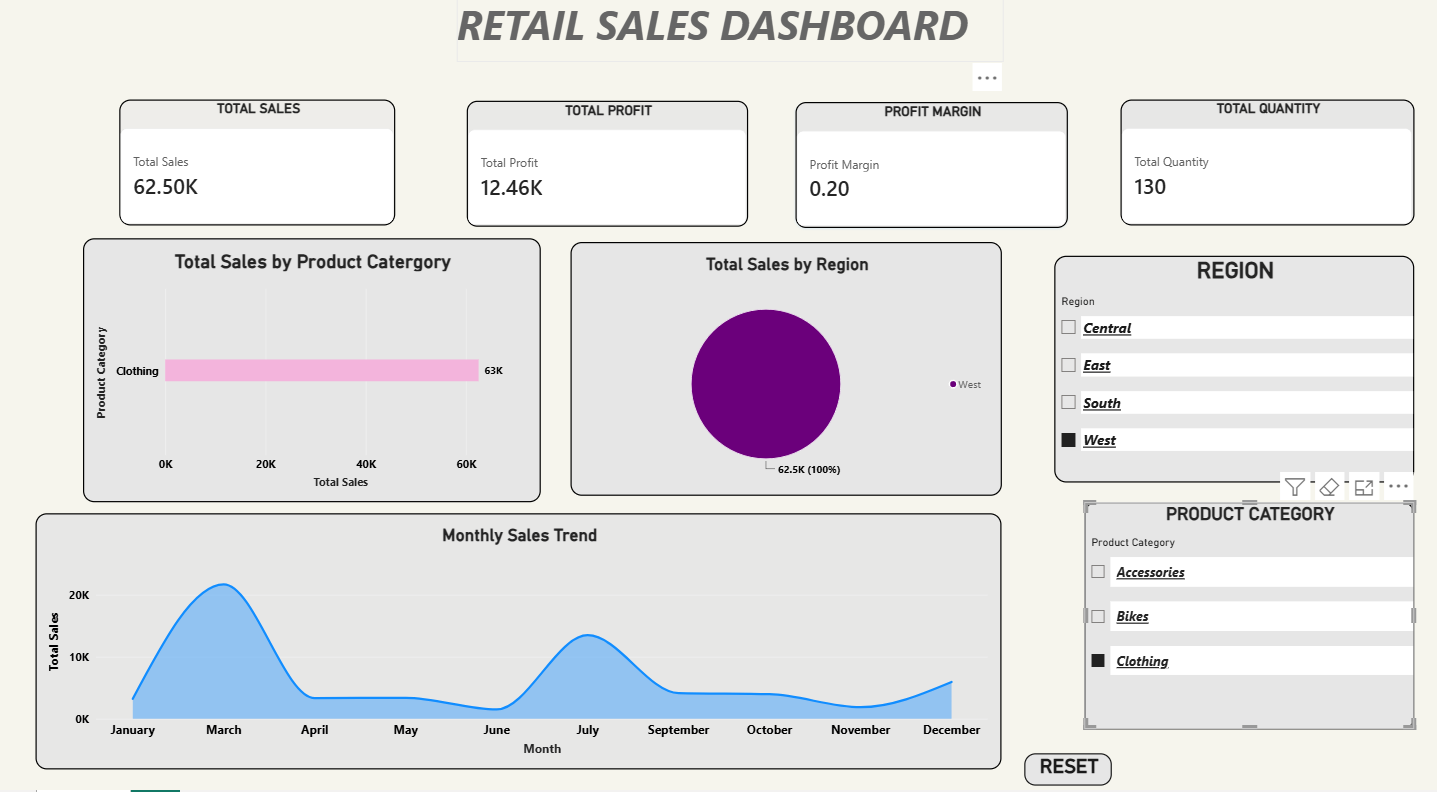

This screenshot's page, from the dashboard's own definition file:
{"tool":"powerbi","page":{"name":"Page 1","canvas":[1920,1080],"ordinal":0},"visuals":[{"type":"textbox","box":[612.2,0,727.3,87.2],"z":0},{"type":"cardVisual","title":"TOTAL SALES","fields":{"Data":["Sheet1.Total Sales"]},"box":[161.7,136.7,368.3,168.3],"z":1},{"type":"cardVisual","title":"TOTAL PROFIT","fields":{"Data":["Sheet1.Total Profit"]},"box":[625,138.3,375,168.3],"z":2},{"type":"cardVisual","title":"PROFIT MARGIN","fields":{"Data":["Sheet1.Profit Margin"]},"box":[1063.3,140,363.3,168.3],"z":3},{"type":"cardVisual","title":"TOTAL QUANTITY","fields":{"Data":["Sheet1.Total Quantity"]},"box":[1496.7,136.7,391.7,168.3],"z":4},{"type":"clusteredBarChart","title":"Total Sales by Product Catergory","fields":{"Category":["Sheet1.Product Category"],"Y":["Sheet1.Total Sales"]},"box":[113.3,321.7,610,351.7],"z":5},{"type":"pieChart","title":"Total Sales by Region","fields":{"Category":["Sheet1.Region"],"Y":["Sheet1.Total Sales"]},"box":[763.3,326.7,575,338.3],"z":6},{"type":"areaChart","title":"Monthly Sales Trend","fields":{"Category":["Sheet1.Order Date.Variation.Date Hierarchy.Month"],"Y":["Sheet1.Total Sales"]},"box":[50,688.3,1288.3,341.7],"z":7},{"type":"slicer","title":"PRODUCT CATEGORY","fields":{"Values":["Sheet1.Product Category"]},"box":[1448.3,673.3,440,303.3],"z":9},{"type":"actionButton","title":"RESET","box":[1368.3,1008.3,116.7,43.3],"z":10},{"type":"slicer","title":"REGION","fields":{"Values":["Sheet1.Region"]},"box":[1497,327,392,338],"z":11}]}

Visuals, with their boxes in screenshot pixels (x1, y1, x2, y2), scaled from the page's 1920x1080 canvas onto the 1437x792 screenshot:
textbox: 458,0,1003,64
"TOTAL SALES" cardVisual: 121,100,397,224
"TOTAL PROFIT" cardVisual: 468,101,748,225
"PROFIT MARGIN" cardVisual: 796,103,1068,226
"TOTAL QUANTITY" cardVisual: 1120,100,1413,224
"Total Sales by Product Catergory" clusteredBarChart: 85,236,541,494
"Total Sales by Region" pieChart: 571,240,1002,488
"Monthly Sales Trend" areaChart: 37,505,1002,755
"PRODUCT CATEGORY" slicer: 1084,494,1413,716
"RESET" actionButton: 1024,739,1111,771
"REGION" slicer: 1120,240,1414,488
